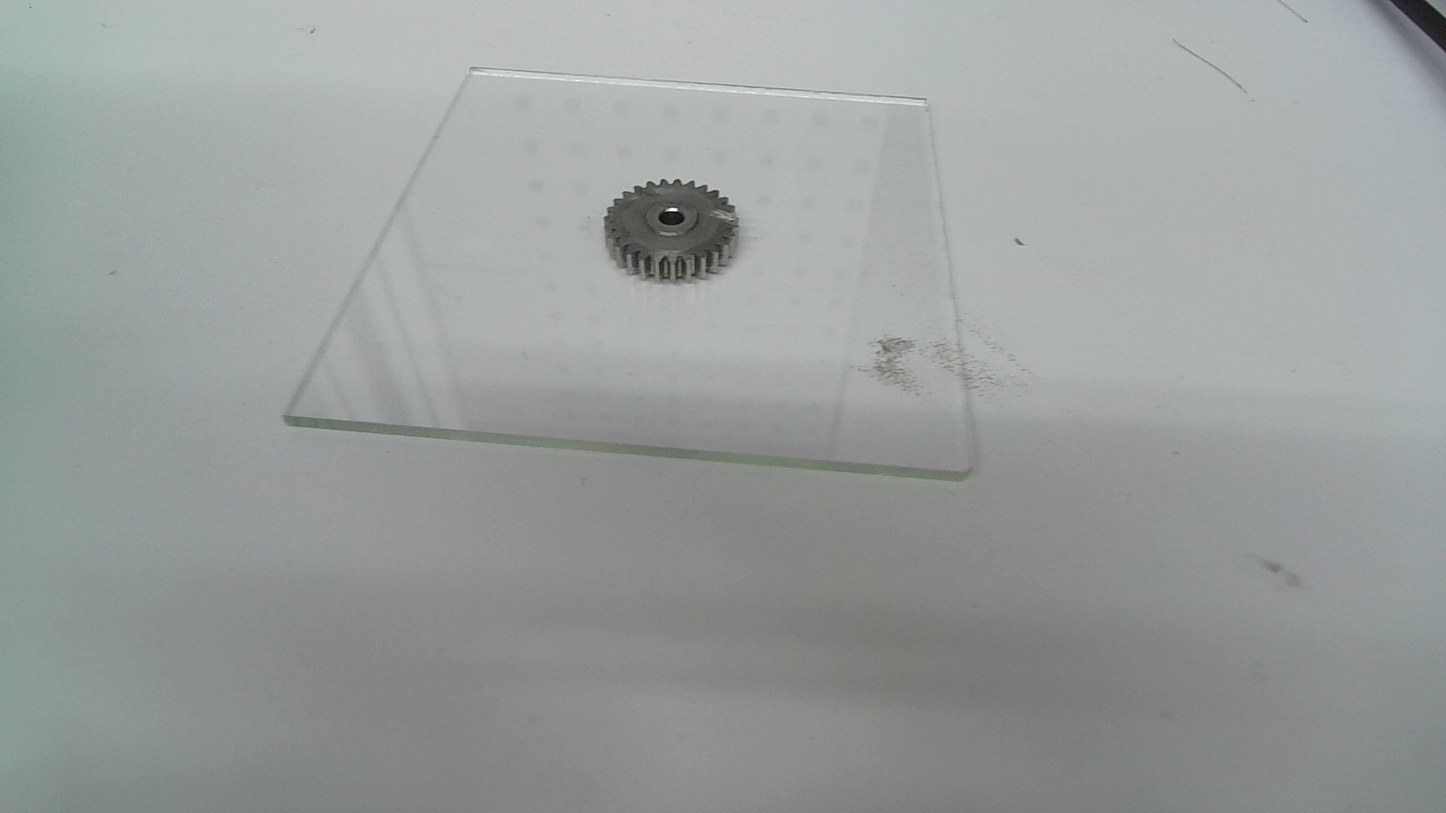gear: (602, 177, 741, 283)
